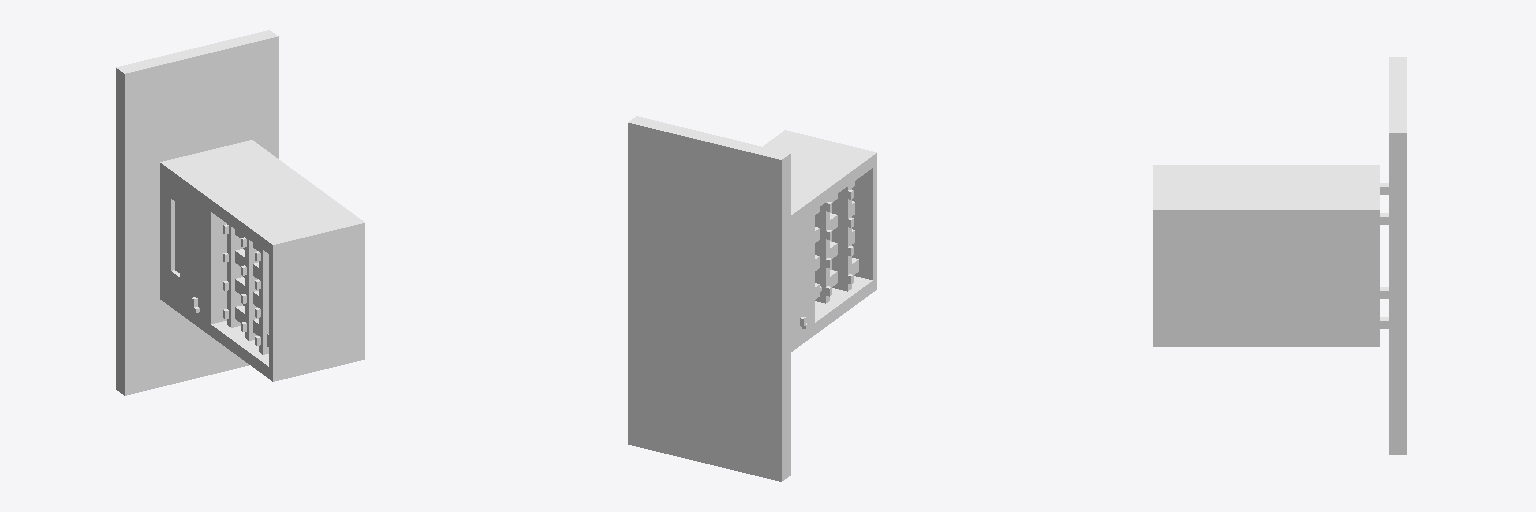
File: VendingMachine-0.obj
The picture shows the model from 3 angles: view 1: azimuth 30°, elevation 25°; view 2: azimuth 150°, elevation 25°; view 3: azimuth 270°, elevation 25°; orthographic projection.
Visible parts, largest first — view 1: object 1; view 2: object 1; view 3: object 1.
Boxes of the visible parts, <box> form: object 1: <box>116,30,364,395</box>; object 1: <box>628,116,876,481</box>; object 1: <box>1153,57,1406,454</box>.
Size of the model in its own units: 40 by 80 by 57.